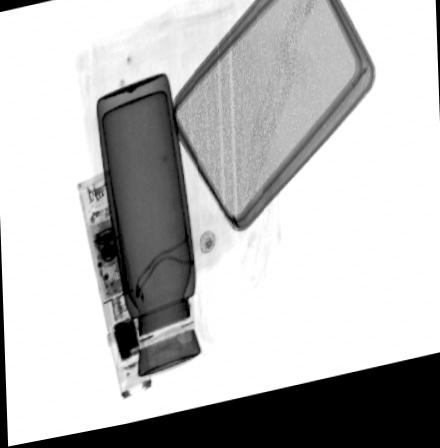Baton: (75, 171, 154, 406)
